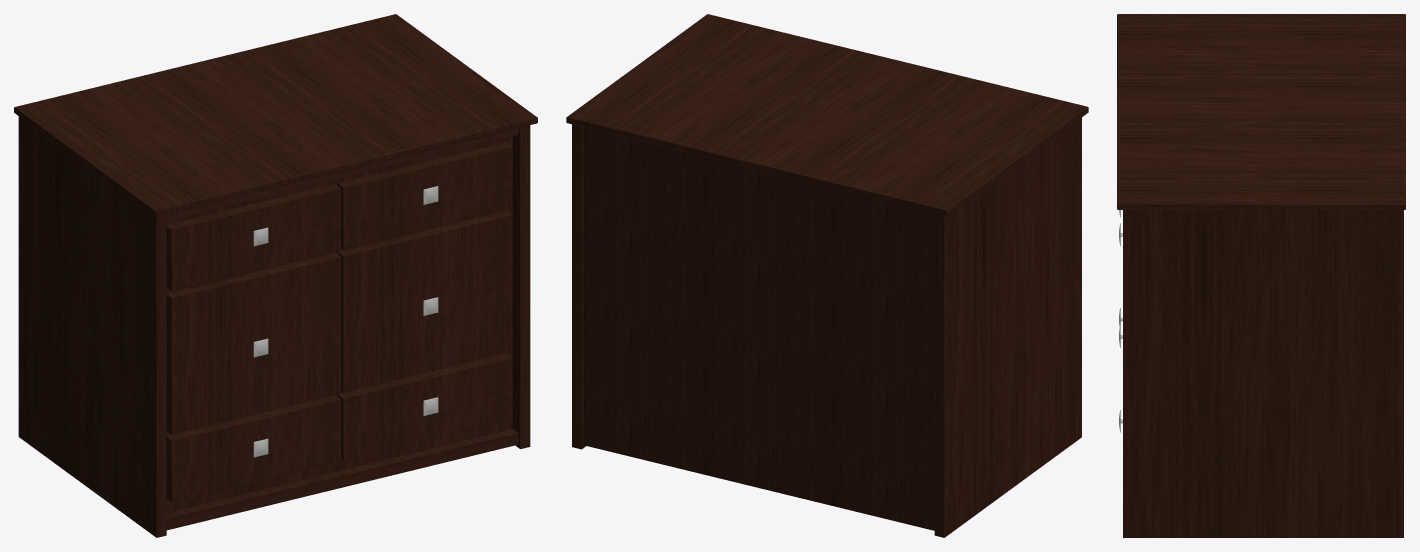
Rendered from wooden-cab3.glb.
3 renders of one model, left to right at view 1: azimuth 30°, elevation 25°; view 2: azimuth 150°, elevation 25°; view 3: azimuth 270°, elevation 25°, orthographic. The views are drawn at different scales.
Visible parts, largest first — view 1: Cube_8_PBR_0.003; view 2: Cube_8_PBR_0.003; view 3: Cube_8_PBR_0.003.
Boxes of the visible parts, left/top/right/bottom form: Cube_8_PBR_0.003: left=14, top=14, right=537, bottom=537; Cube_8_PBR_0.003: left=566, top=14, right=1088, bottom=537; Cube_8_PBR_0.003: left=1117, top=14, right=1405, bottom=537.
Bounding box in the file's own units: 1.32 × 1.09 × 0.8455.
Materials: 2 (1 with a texture image).
